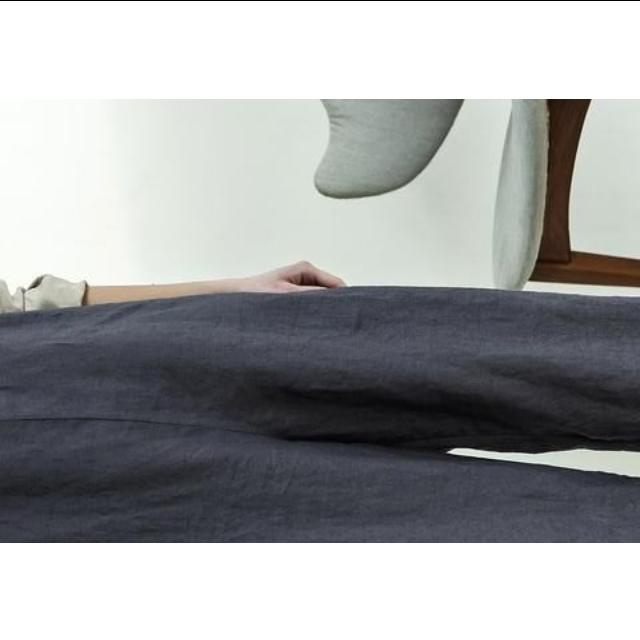linen: (0, 268, 640, 542)
